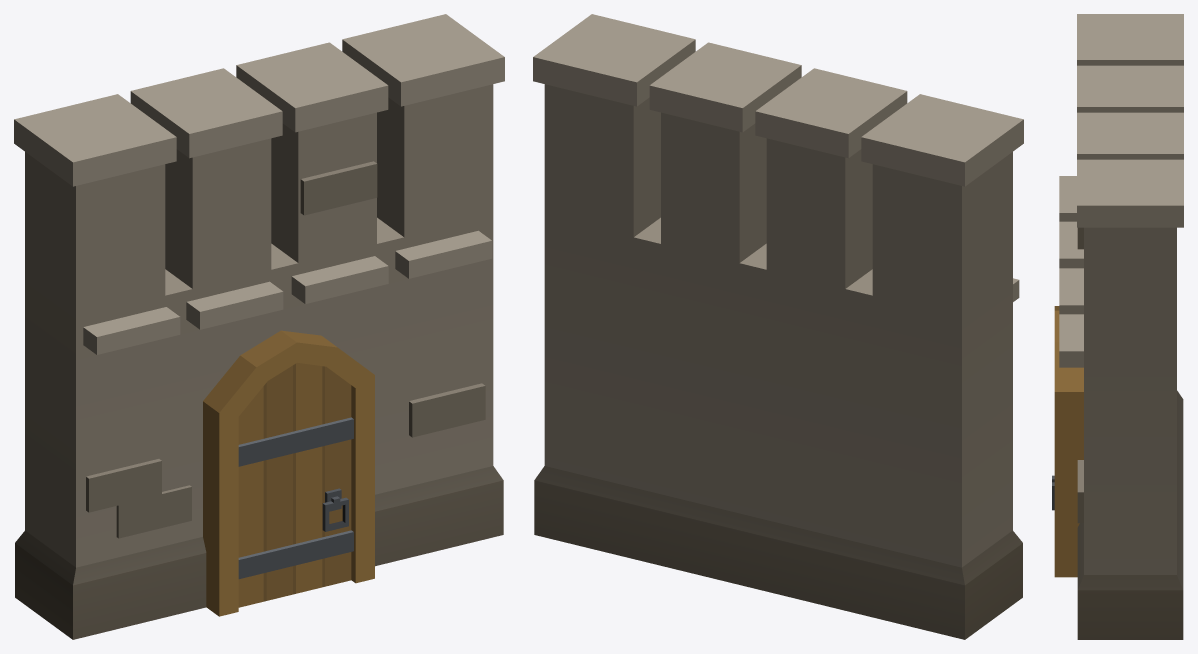
The model's file is SF_Bld_Castle_Door_01.fbx.
The picture shows the model from 3 angles, left to right: view 1: azimuth 30°, elevation 25°; view 2: azimuth 150°, elevation 25°; view 3: azimuth 270°, elevation 25°; orthographic projection. The views are drawn at different scales.
Parts seen in each view (by area): view 1: SF_Bld_Castle_Door_01; view 2: SF_Bld_Castle_Door_01; view 3: SF_Bld_Castle_Door_01.
Part boxes in pixels (x1,y1,x2,y2): SF_Bld_Castle_Door_01: (14, 14, 504, 639); SF_Bld_Castle_Door_01: (533, 14, 1023, 639); SF_Bld_Castle_Door_01: (1052, 14, 1183, 639).
Bounding box in the file's own units: 7.35 × 7.77 × 2.14.
